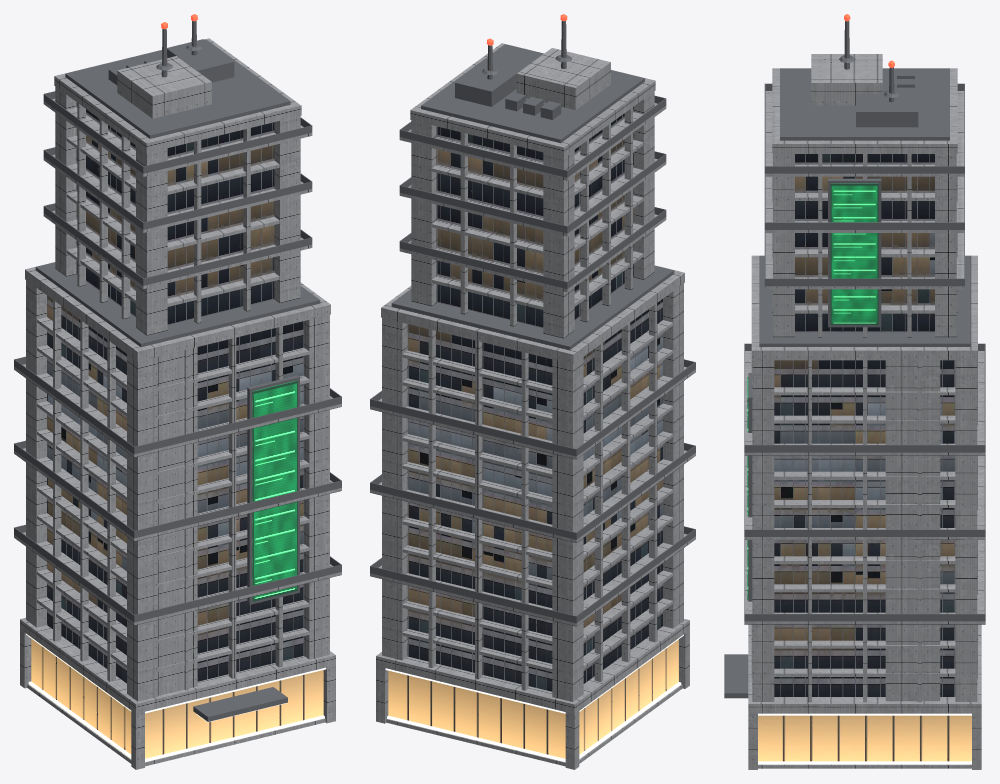
The model's file is towerB.glb.
3 renders of one model, left to right at view 1: azimuth 30°, elevation 25°; view 2: azimuth 150°, elevation 25°; view 3: azimuth 270°, elevation 25°, orthographic.
Visible parts, largest first — view 1: towerB; view 2: towerB; view 3: towerB.
Boxes of the visible parts, <box> form: towerB: <box>14,14,341,769</box>; towerB: <box>370,14,695,769</box>; towerB: <box>724,14,985,769</box>.
Size of the model in its own units: 31.04 by 98.95 by 33.66.
7 materials, 2 textured.
